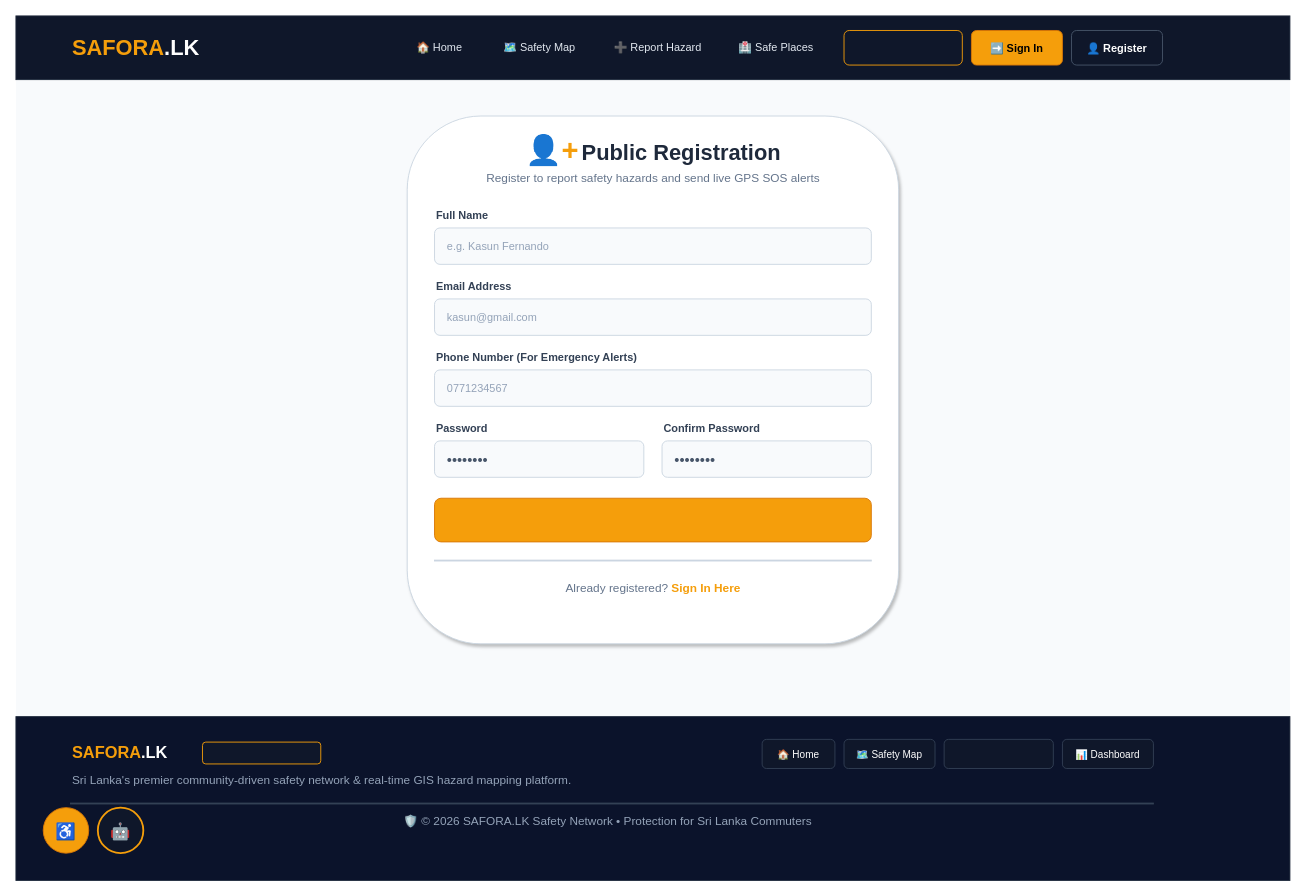
Some shapes in this 1306 by 896 pixel diagram are drawn without their labels. The centre of each missing label's shape, as x and y in pixels:
(((•))) 24/7 AI SAFETY: point (261, 752)
Create Account: point (652, 519)
⚠️ Report Hazard: point (998, 753)
📞 SOS Contacts: point (902, 47)
